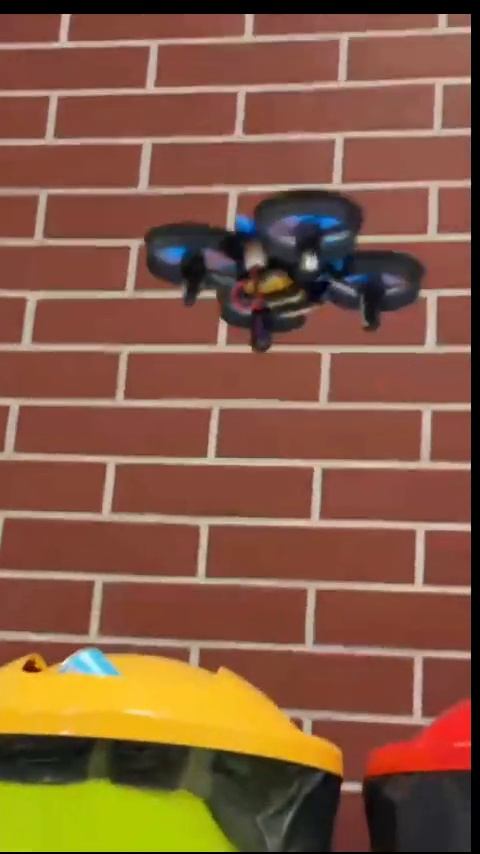drone: (145, 190, 432, 350)
